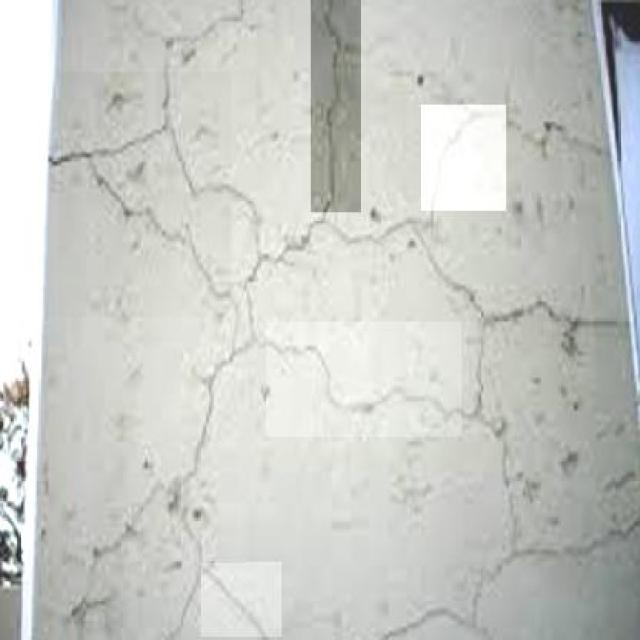Crack: (67, 78, 229, 306), (377, 503, 640, 637), (266, 323, 471, 437), (250, 217, 470, 311), (170, 335, 249, 510), (115, 3, 284, 73), (483, 283, 640, 350), (58, 513, 137, 631), (162, 566, 288, 639), (314, 6, 355, 211), (422, 113, 511, 207), (519, 103, 607, 168)
